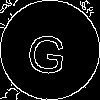G: (25, 25, 69, 75)
